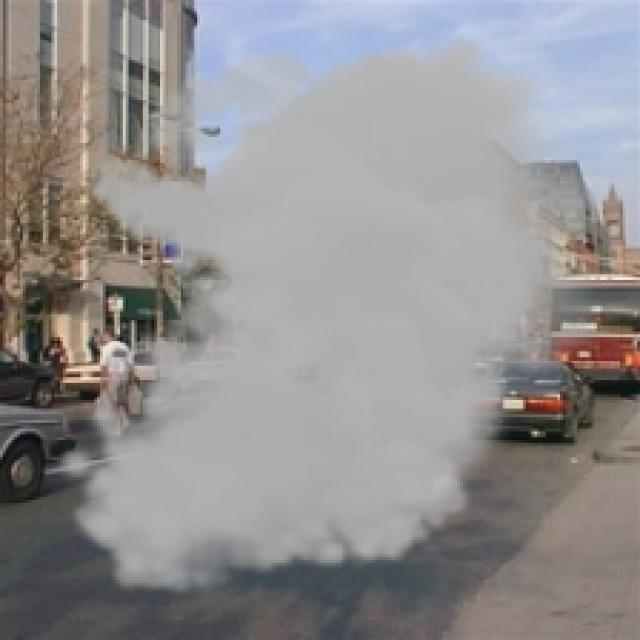Smoke: (52, 31, 618, 598)
